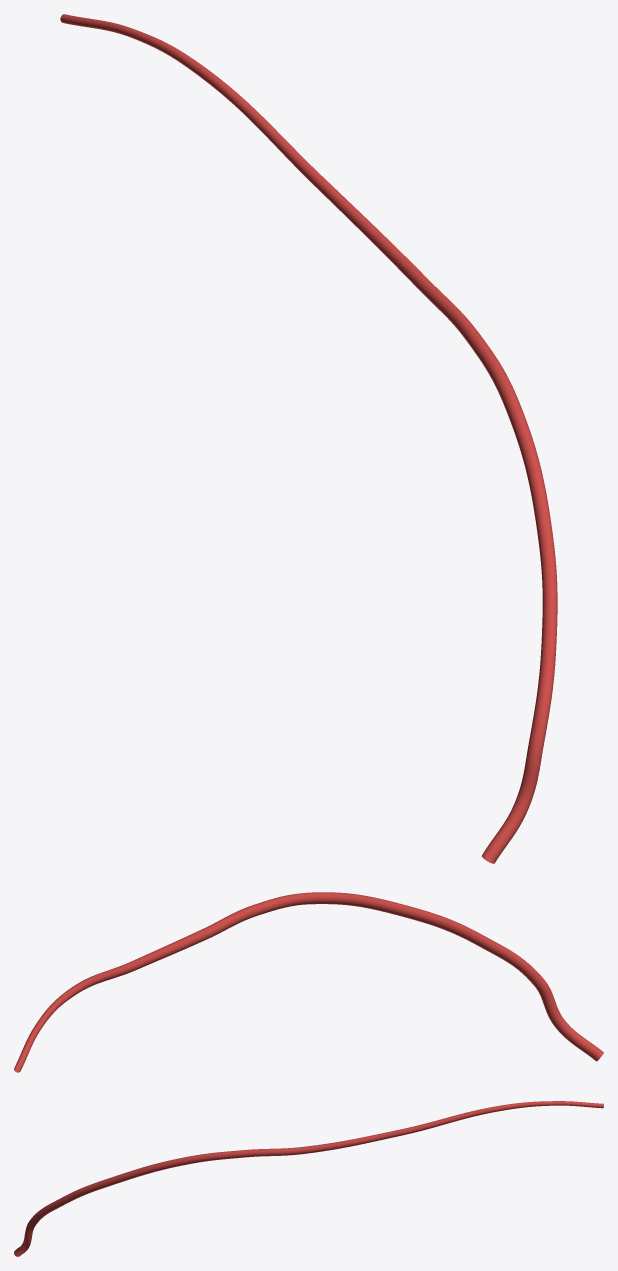
3 renders of one model, top to bottom at view 1: azimuth 30°, elevation 25°; view 2: azimuth 150°, elevation 25°; view 3: azimuth 270°, elevation 25°, orthographic. The views are drawn at different scales.
Parts seen in each view (by area): view 1: 右侧颈横动脉浅支; view 2: 右侧颈横动脉浅支; view 3: 右侧颈横动脉浅支.
Part boxes in pixels (box(x1,y1,x2,y2)): 右侧颈横动脉浅支: box(60, 14, 557, 863); 右侧颈横动脉浅支: box(14, 892, 603, 1072); 右侧颈横动脉浅支: box(14, 1101, 603, 1256).
Bounding box in the file's own units: 0.0434 × 0.0719 × 0.1922.
